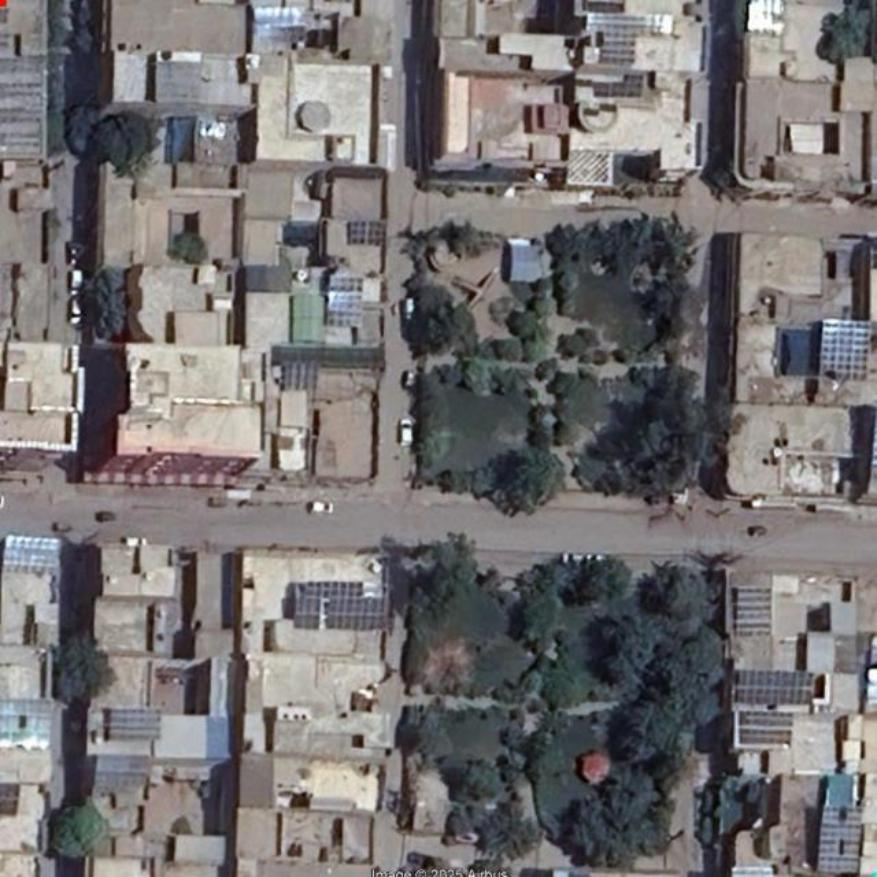Solarpanel: (293, 583, 387, 630), (818, 805, 863, 873), (821, 319, 871, 378), (0, 702, 53, 750), (737, 672, 813, 705), (586, 10, 675, 35), (2, 539, 60, 574), (326, 277, 363, 326), (739, 713, 793, 744), (110, 709, 160, 737), (746, 0, 783, 32), (601, 32, 636, 65), (283, 364, 318, 390), (350, 221, 384, 245)
